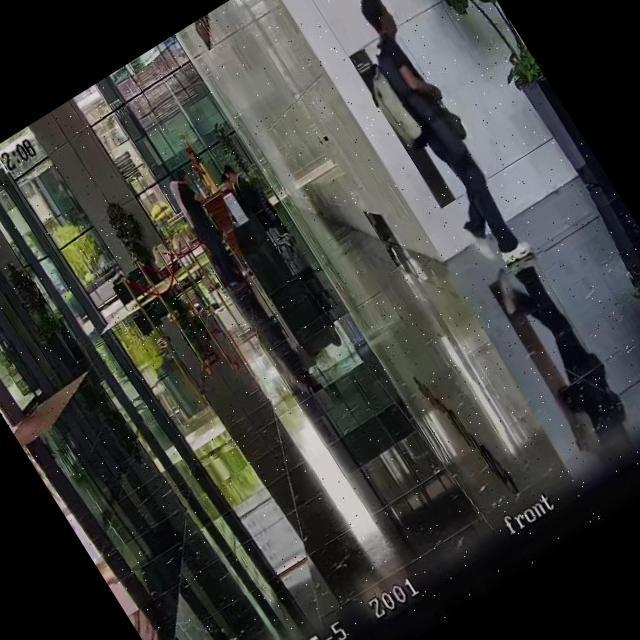person: (331, 0, 541, 278), (159, 164, 256, 296), (218, 158, 270, 226)
